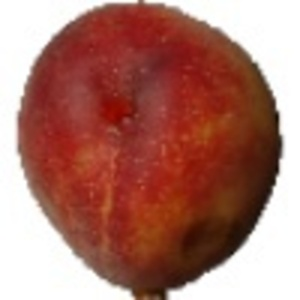pêssego: (15, 1, 284, 300)
